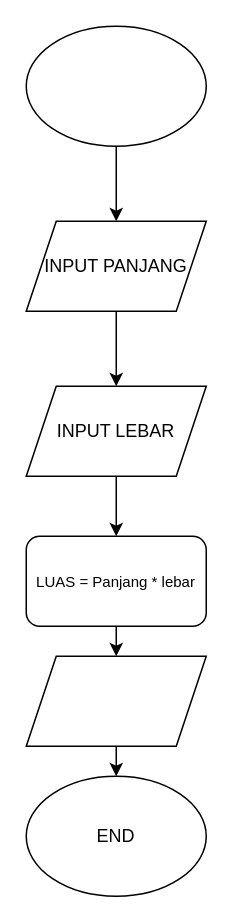
The diagram is 233 pixels wide and 923 high, and some of its shapes have lost their labels. Here are the shapes that lost their labels. From the top down, the centre of each, then its label:
At point (115, 85): "START".
At point (115, 700): "LUAS LAPANGAN SEPAK BOLA".
